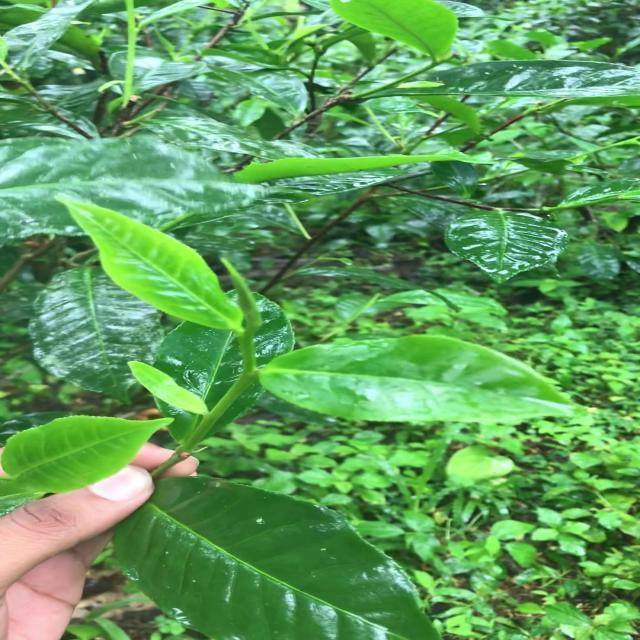Stem: (240, 333, 254, 349)
